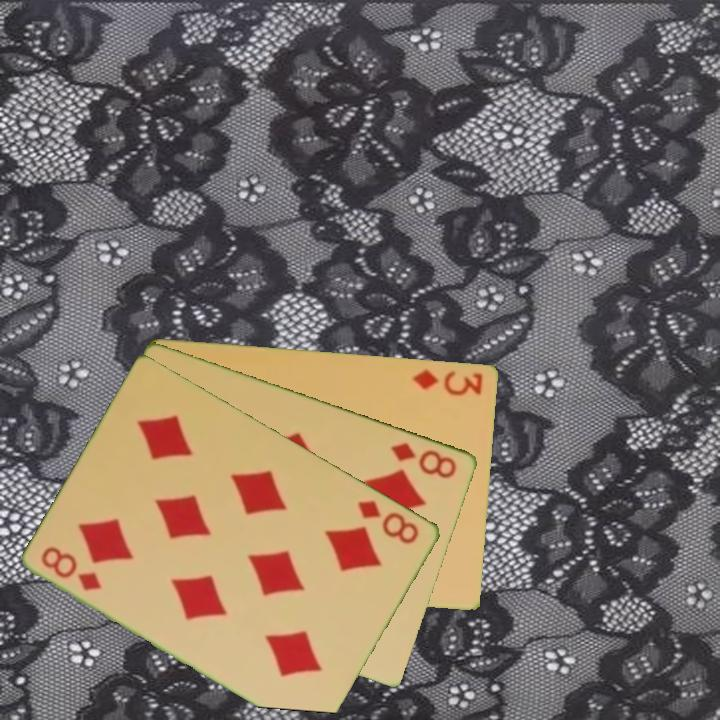3d: (409, 365, 486, 398)
8d: (38, 542, 106, 594), (354, 496, 423, 547), (388, 439, 460, 481)
